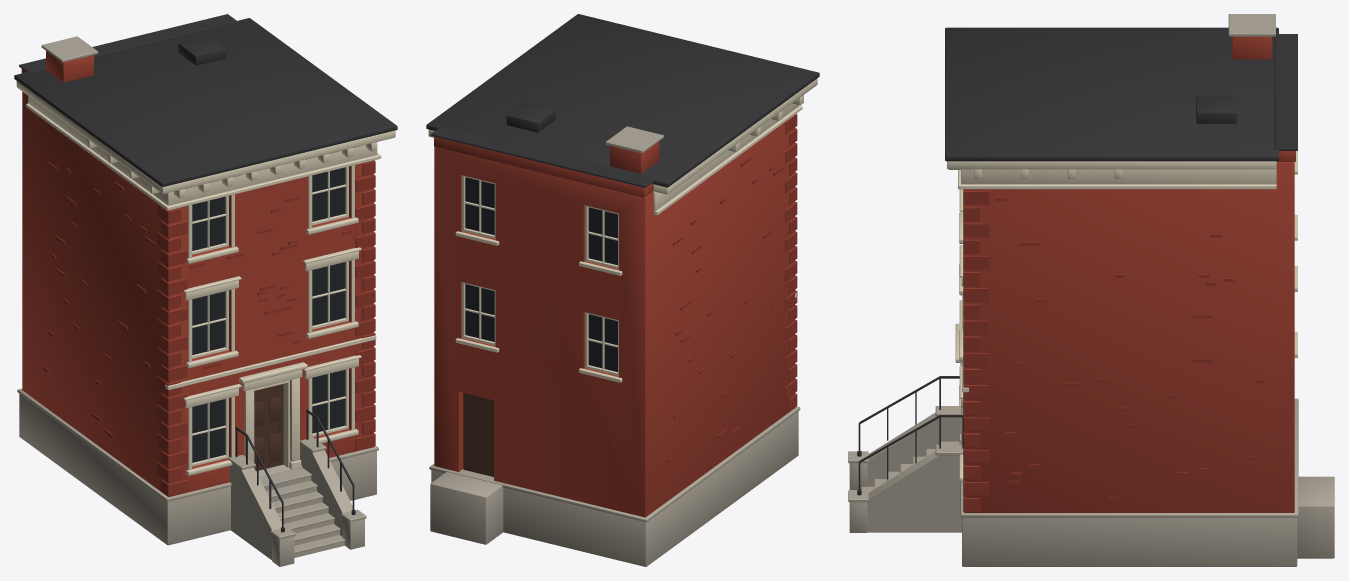
File: Rowhouse.fbx
3 views of the same model, side by side, from view 1: azimuth 30°, elevation 25°; view 2: azimuth 150°, elevation 25°; view 3: azimuth 270°, elevation 25° (orthographic). The views are drawn at different scales.
Visible parts, largest first — view 1: Rowhouse_Mesh; view 2: Rowhouse_Mesh; view 3: Rowhouse_Mesh.
Part boxes in pixels (x1,y1,x2,y2): Rowhouse_Mesh: [14, 14, 397, 566]; Rowhouse_Mesh: [426, 14, 819, 566]; Rowhouse_Mesh: [848, 14, 1334, 566].
Bounding box in the file's own units: 6.88 × 11.03 × 10.91.
